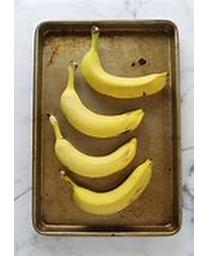banana: (54, 32, 169, 215)
